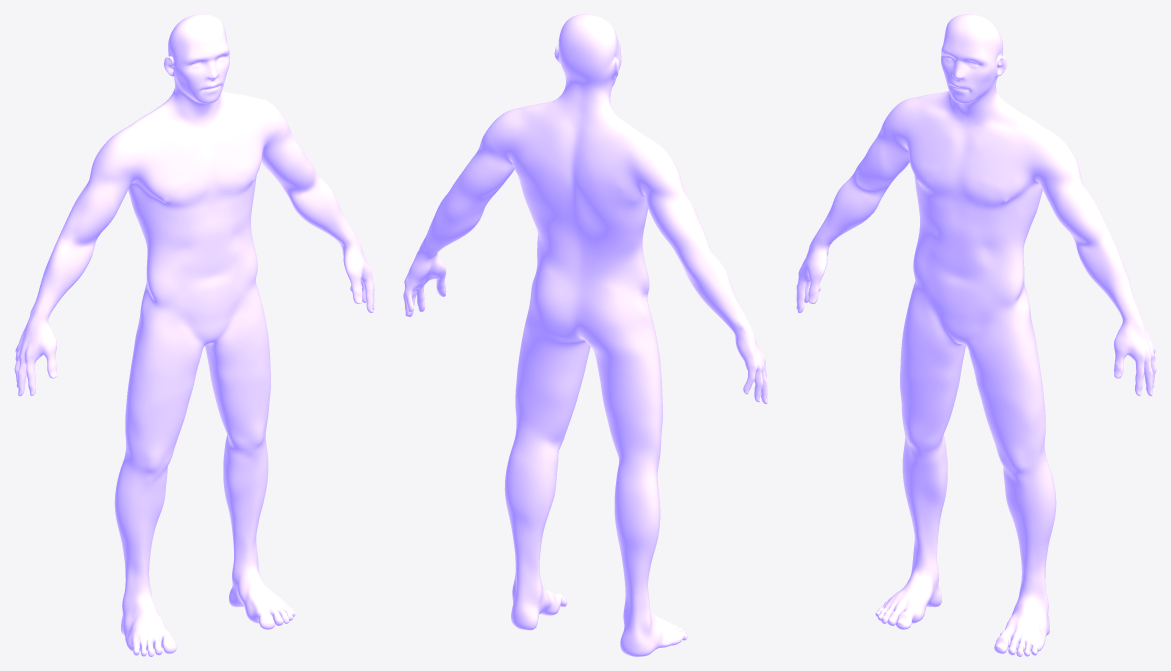
3 views of the same model, side by side, from view 1: azimuth 30°, elevation 25°; view 2: azimuth 150°, elevation 25°; view 3: azimuth 330°, elevation 25° (orthographic).
Visible parts, largest first — view 1: Group1; view 2: Group1; view 3: Group1.
Boxes of the visible parts, bbox=[...] form: Group1: bbox=[14, 14, 374, 656]; Group1: bbox=[403, 14, 767, 656]; Group1: bbox=[796, 14, 1156, 656].
Bounding box in the file's own units: 9.11 × 14.93 × 1.89.
